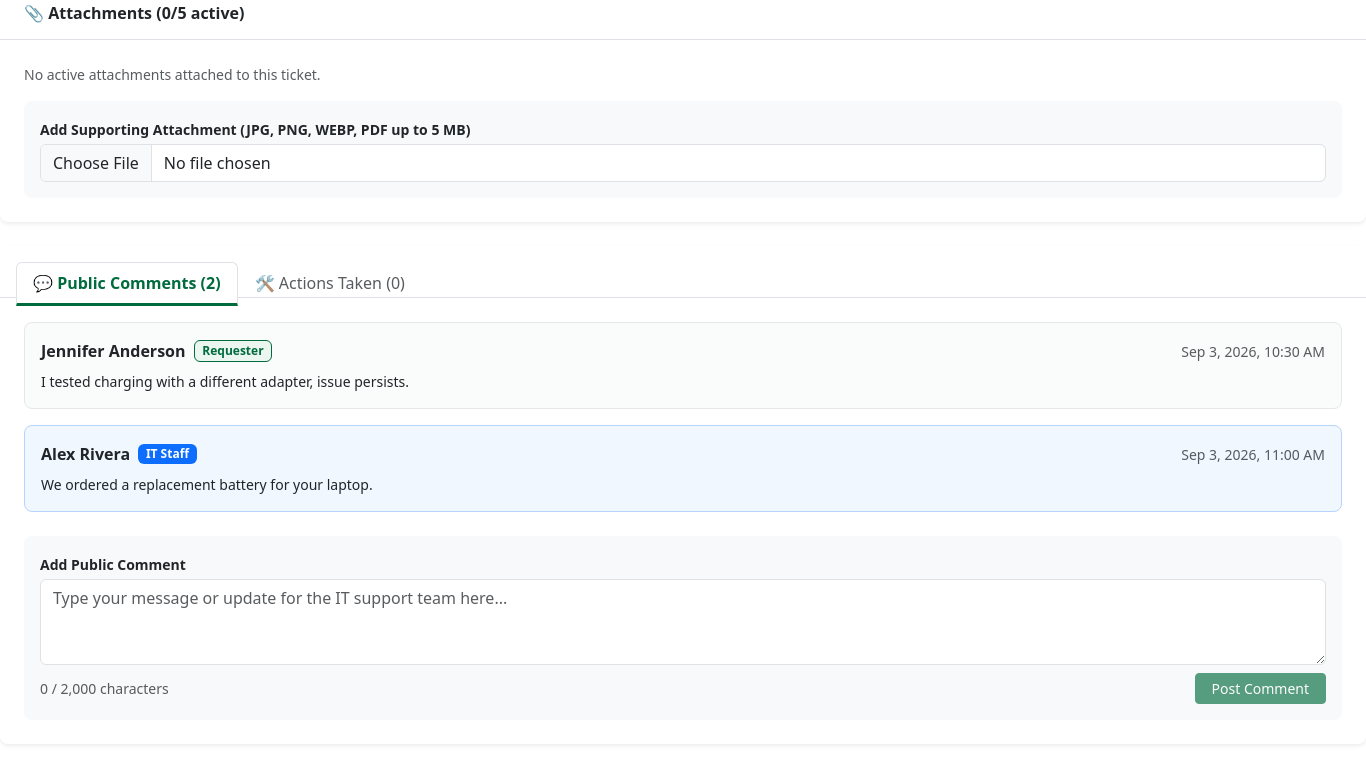
Scenario: Requester Continuation & Comments (AC-05, AC-14, BR-10, BR-14) › submits a new public comment and appends to thread (AC-05, BR-13, BR-16)
The width and height of the screenshot is (1366, 768).
(page scrolled)
Check: the button with test id "submit-comment-btn" is disabled, box [1194,673,1326,704]
# Type comment
Type "Great, I will bring the laptop tomorrow." into the text box with test id "new-comment-textarea" at (683, 622), box [40,579,1326,665]
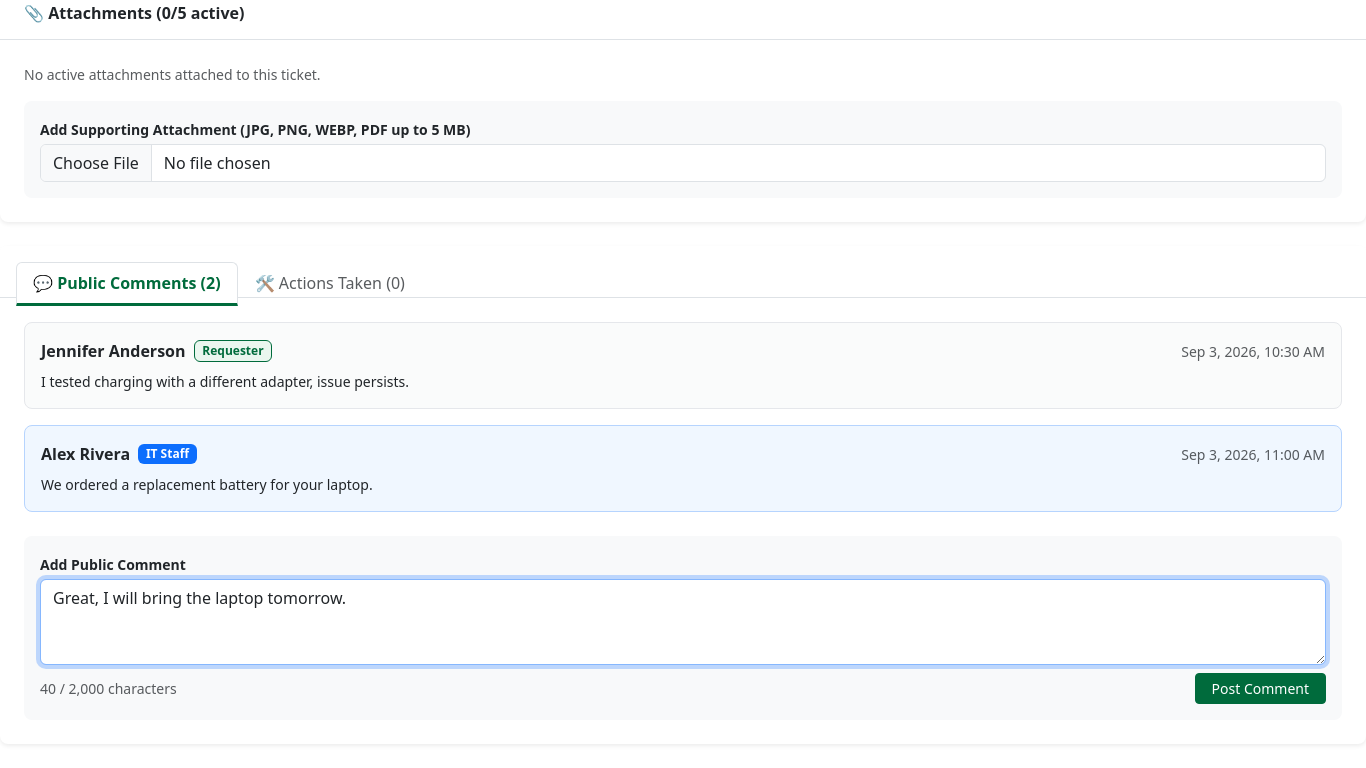
Check: the button with test id "submit-comment-btn" is enabled
Click the button with test id "submit-comment-btn" at (1260, 689), box [1194,673,1326,704]
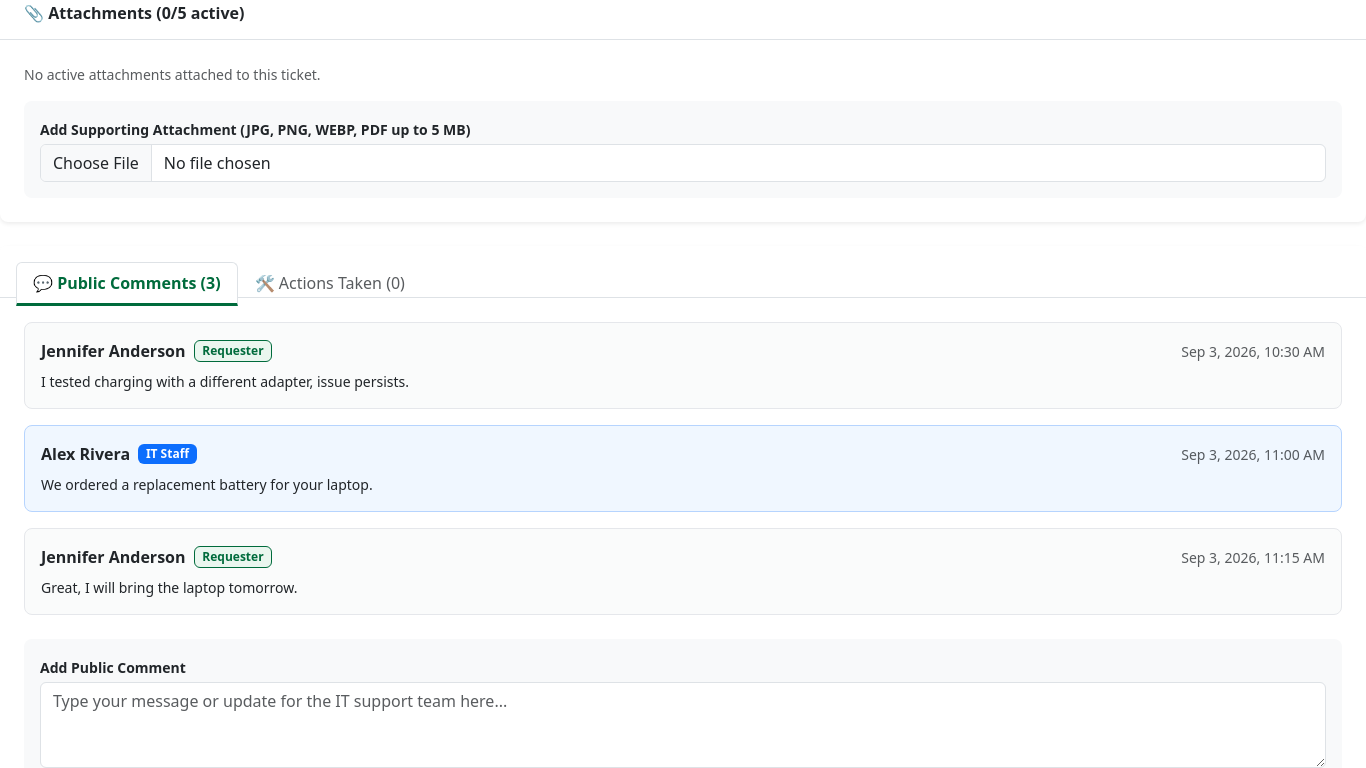
Check: the text "Great, I will bring the laptop tomorrow." is shown, box [41,578,298,597]
Check: the button "💬 Public Comments (3)" is shown, box [16,262,238,306]
